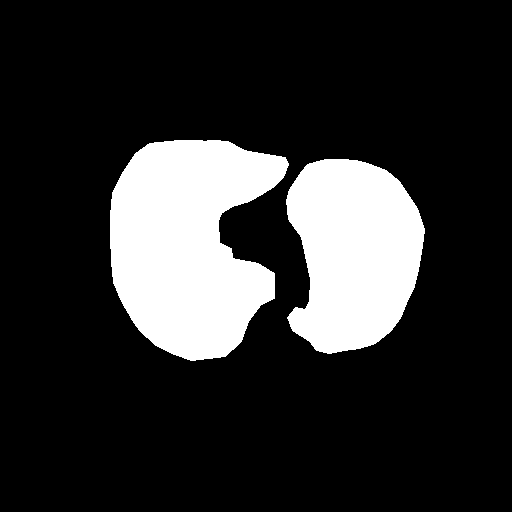Lungs: (107, 143, 423, 359)
